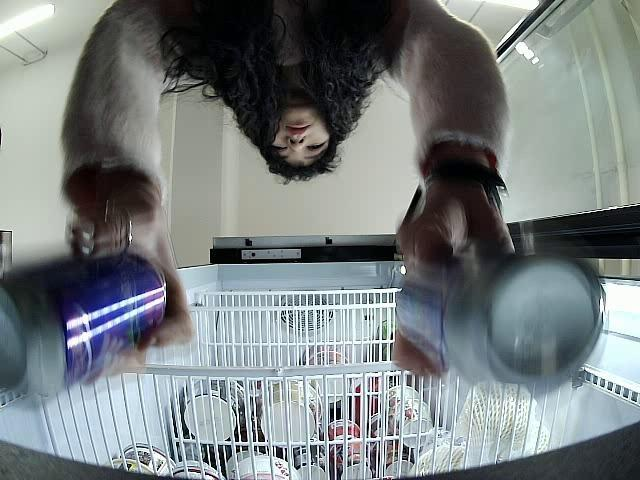14_welchsGrape: (392, 248, 607, 401), (0, 245, 169, 396)
